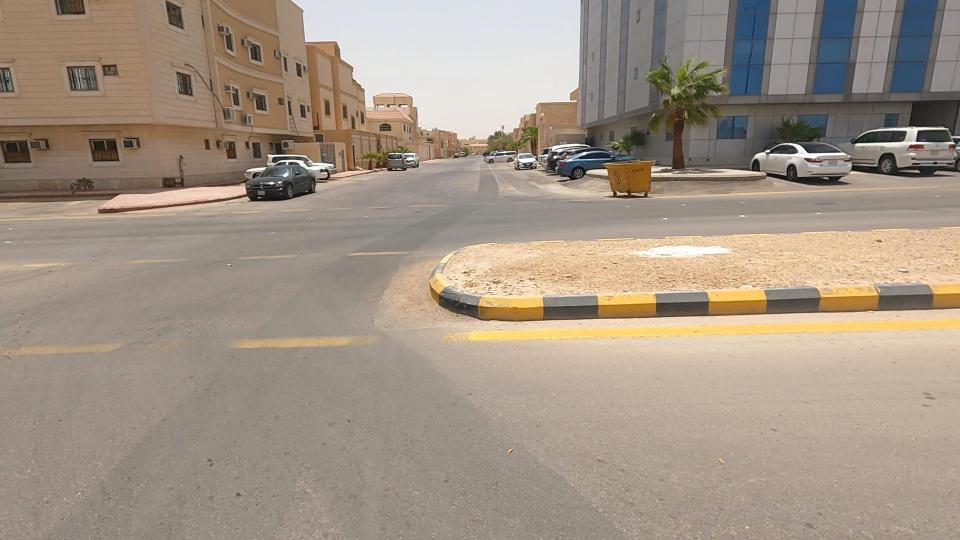CLUTTER_SIDEWALK: (336, 188, 960, 336)
